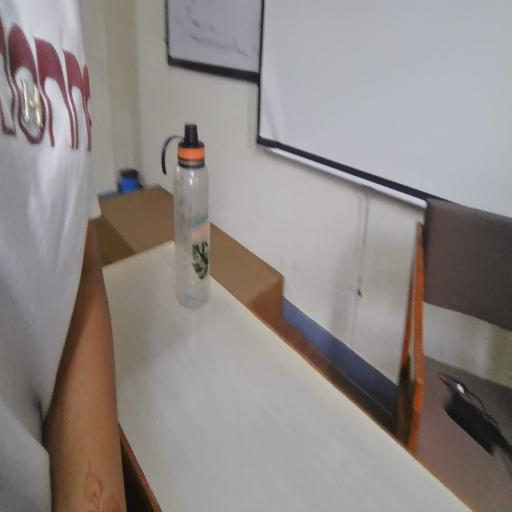Bottle: (164, 125, 229, 318)
